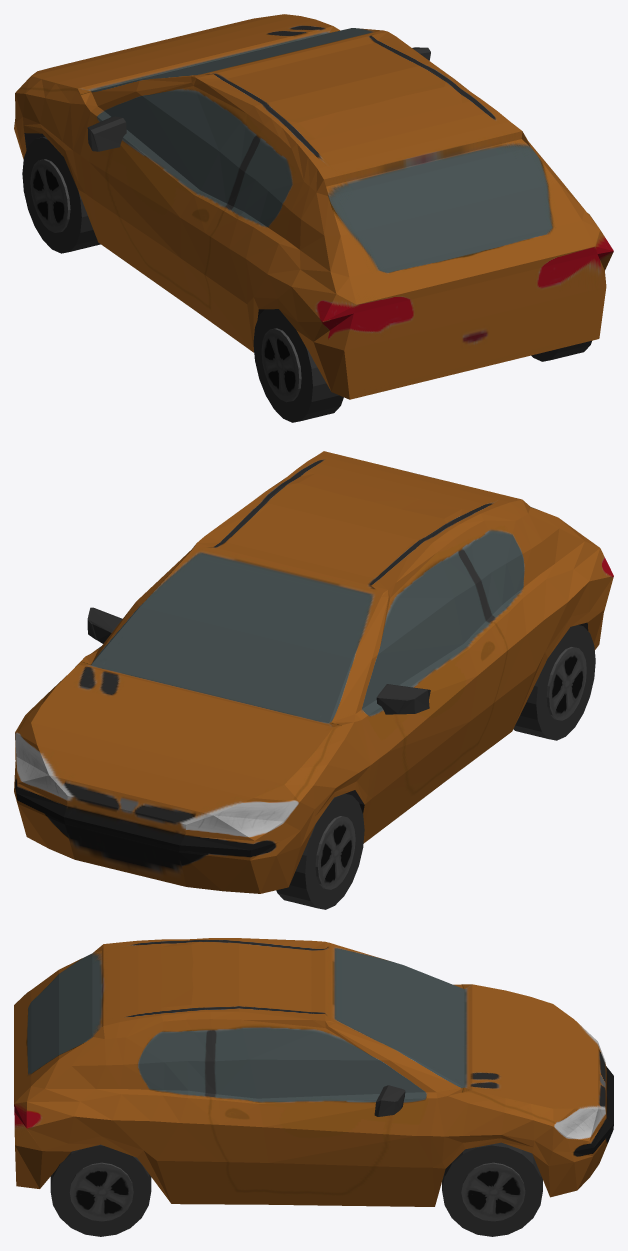
3 renders of one model, top to bottom at view 1: azimuth 30°, elevation 25°; view 2: azimuth 150°, elevation 25°; view 3: azimuth 270°, elevation 25°, orthographic. The views are drawn at different scales.
Bounding box in the file's own units: 71.22 × 48.43 × 129.
3 materials, 2 textured.
